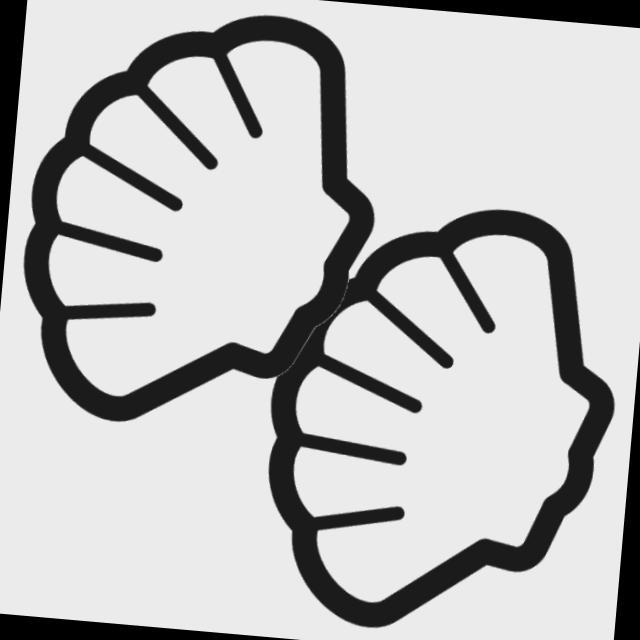shell: (233, 176, 640, 640), (1, 1, 399, 457)
